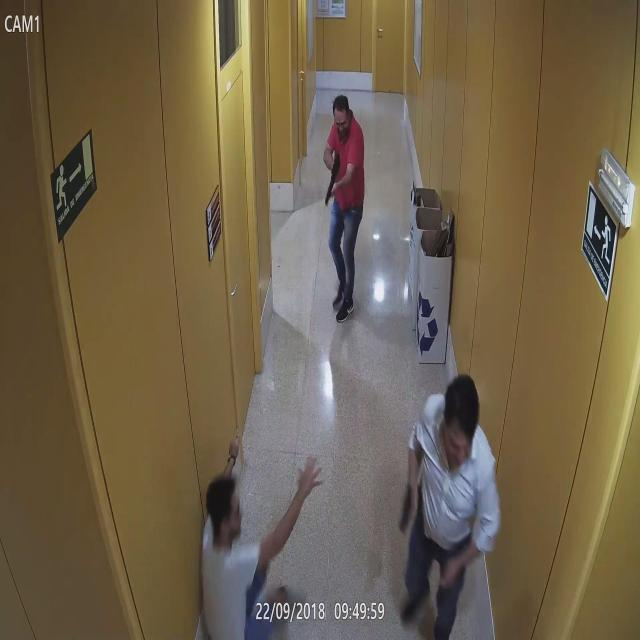gun: (393, 369, 498, 640), (198, 434, 323, 640), (322, 89, 370, 326), (396, 476, 417, 542), (324, 147, 342, 215)
